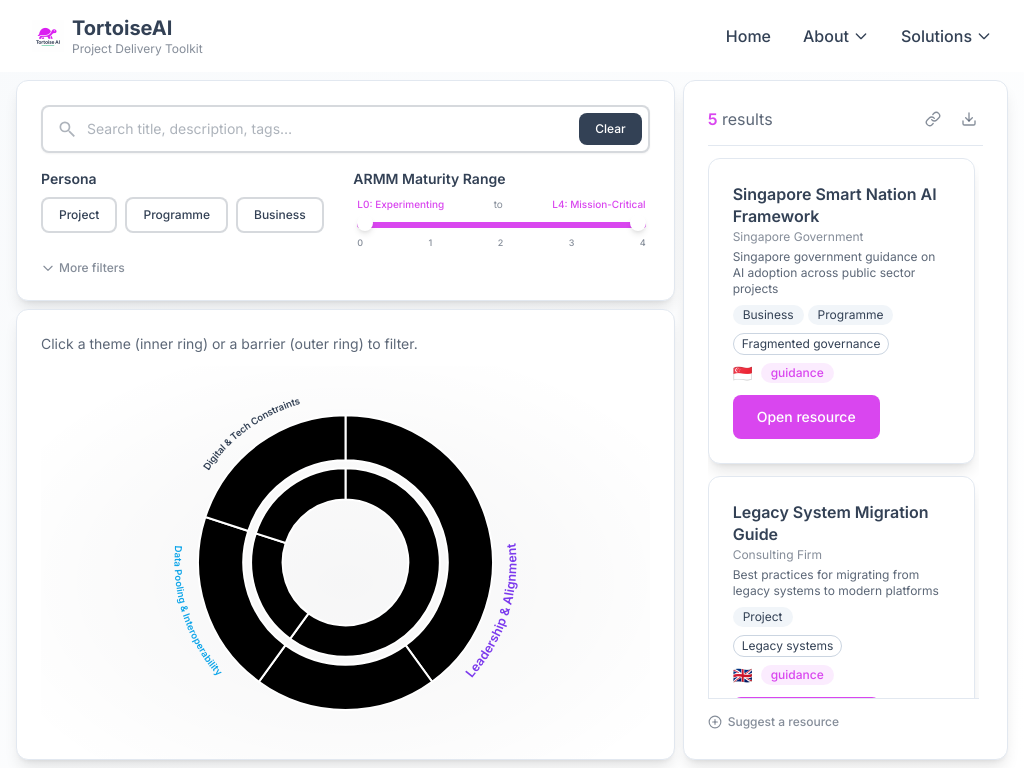
Scenario: App Component › Search Functionality › should filter resources by tag search
This screenshot has width=1024, height=768.
Type "governance" into the field with placeholder "Search title, description, tags…" at (345, 129), box [41, 105, 650, 153]
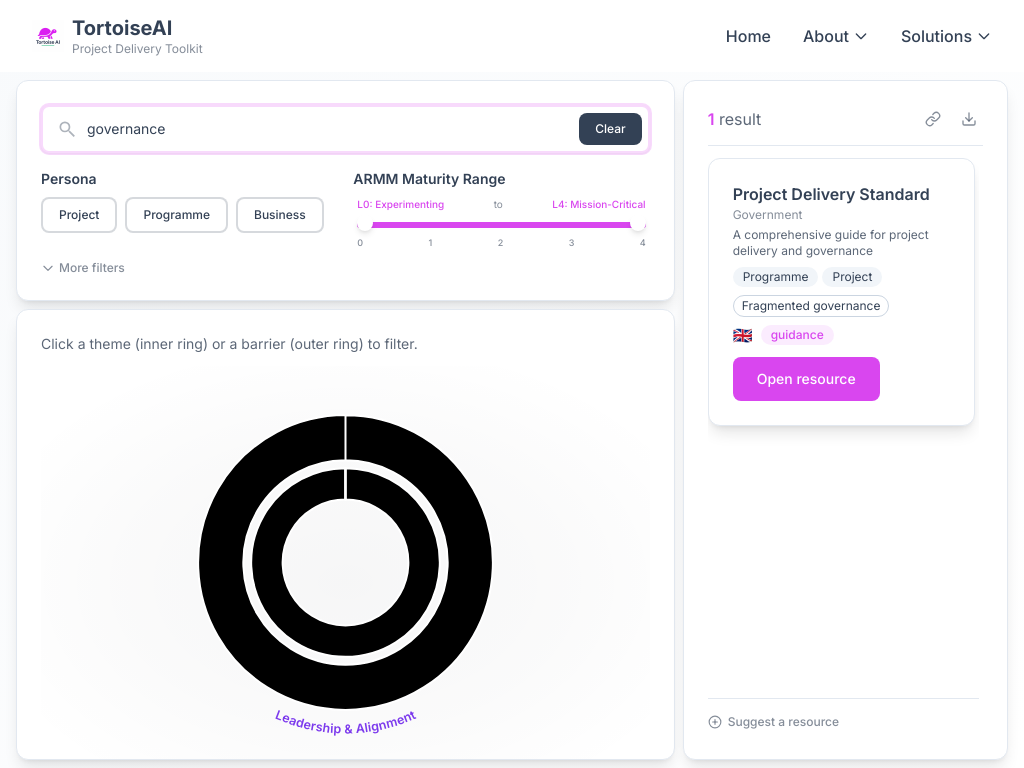
Expected: the heading "Project Delivery Standard" is shown, [733, 183, 950, 205]
